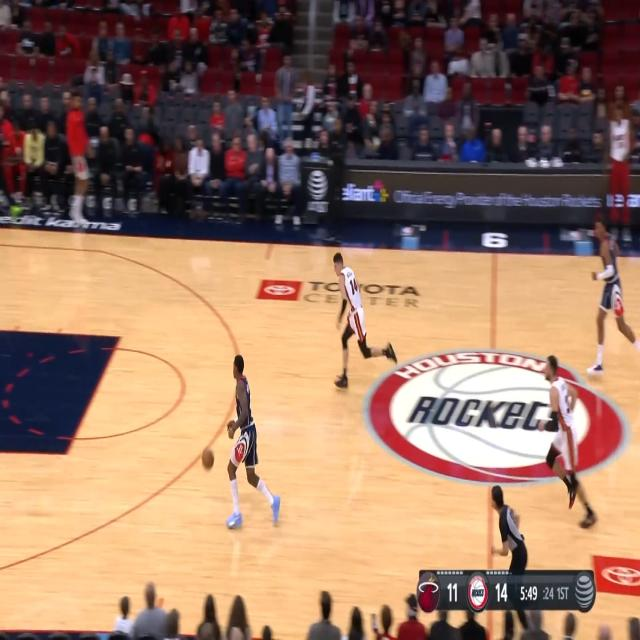Ball: (201, 446, 215, 470)
Overlay: (416, 569, 596, 615)
Player: (538, 353, 600, 531), (226, 353, 282, 532), (333, 252, 397, 389), (587, 216, 638, 378)
Ref: (489, 477, 531, 640)
Scoreboard: (416, 569, 572, 614)
